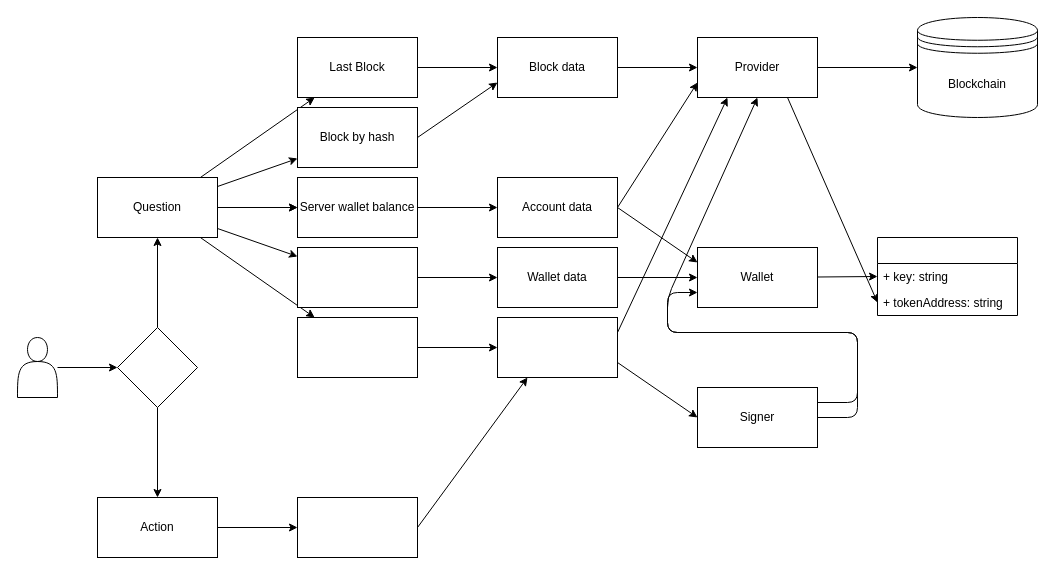
The diagram is 1055 pixels wide and 575 high, and some of its shapes have lost their labels. Each missing label, with the box of its shape:
Contract data: (496, 316, 618, 378)
Interaction: (116, 326, 198, 408)
process.env: (876, 236, 1018, 316)
Requet tokens: (296, 496, 418, 558)
Server wallet address: (296, 246, 418, 308)
Token balance by address: (296, 316, 418, 378)
